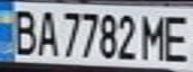2: (115, 10, 142, 61)
7: (57, 7, 81, 58), (78, 8, 100, 59)
8: (96, 10, 121, 61)
A: (33, 6, 60, 56)
B: (6, 4, 39, 56)
E: (160, 10, 193, 63)
M: (139, 10, 172, 62)
